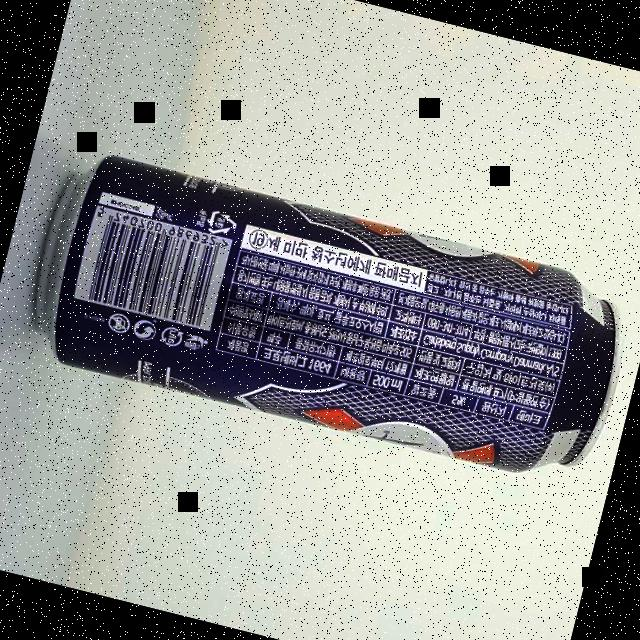can: (17, 144, 640, 495)
